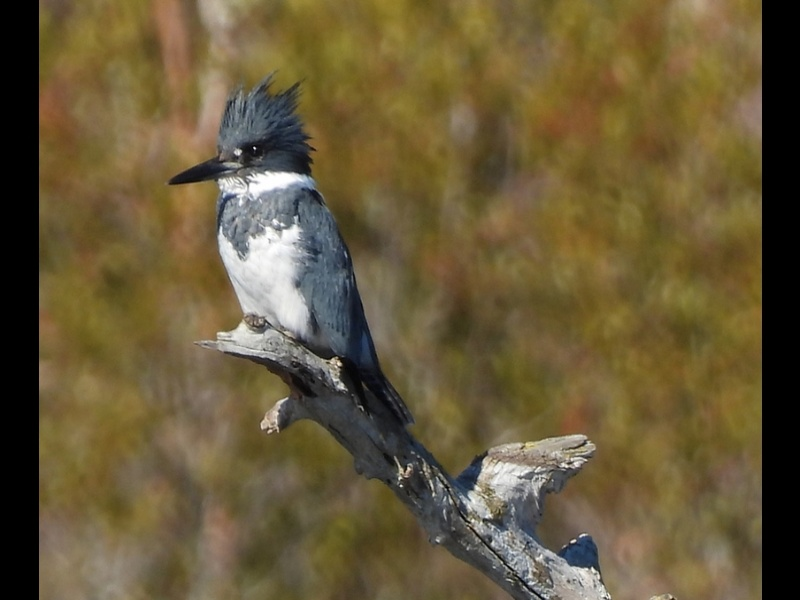kingfisher: (162, 76, 415, 430)
